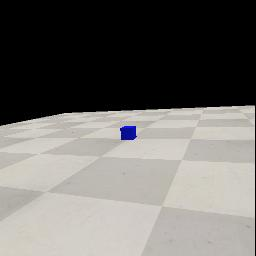box: (120, 126, 137, 140)
